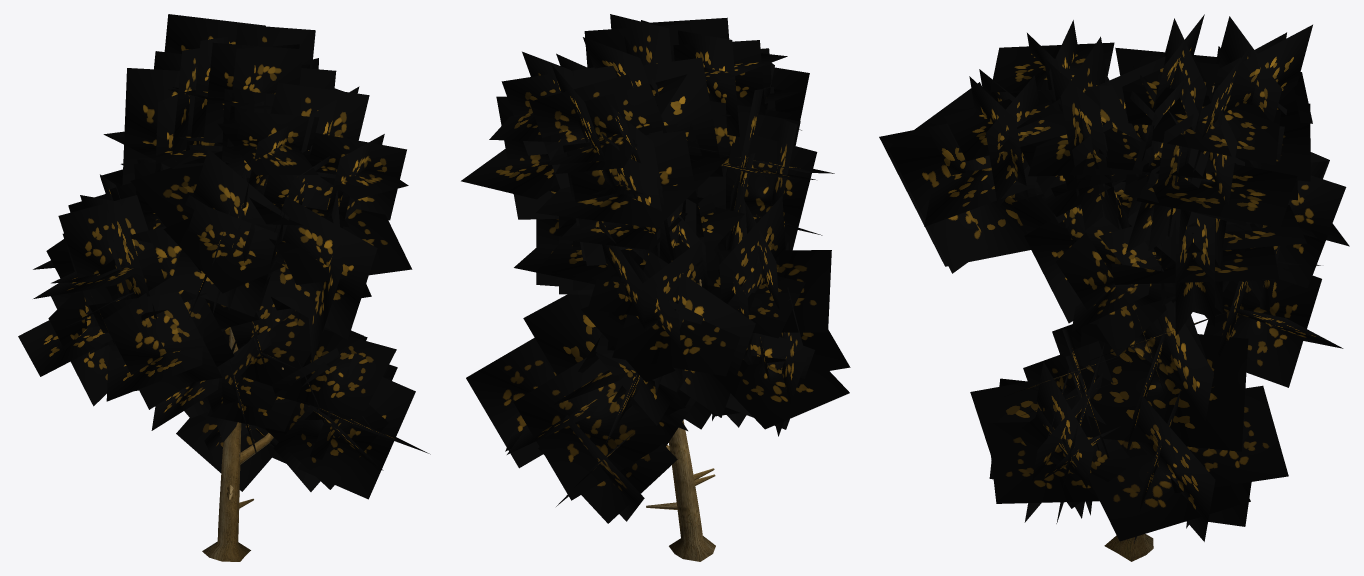
File: env_tree_dry_mature_02.glb
3 renders of one model, left to right at view 1: azimuth 30°, elevation 25°; view 2: azimuth 150°, elevation 25°; view 3: azimuth 270°, elevation 25°, orthographic. The views are drawn at different scales.
Visible parts, largest first — view 1: tree_dry_mature_02; view 2: tree_dry_mature_02; view 3: tree_dry_mature_02.
Part boxes in pixels (x1,y1,x2,y2): tree_dry_mature_02: [18, 14, 430, 561]; tree_dry_mature_02: [461, 14, 850, 561]; tree_dry_mature_02: [879, 14, 1349, 561].
Size of the model in its own units: 4.71 by 6.35 by 4.96.
2 materials, 2 textured.
